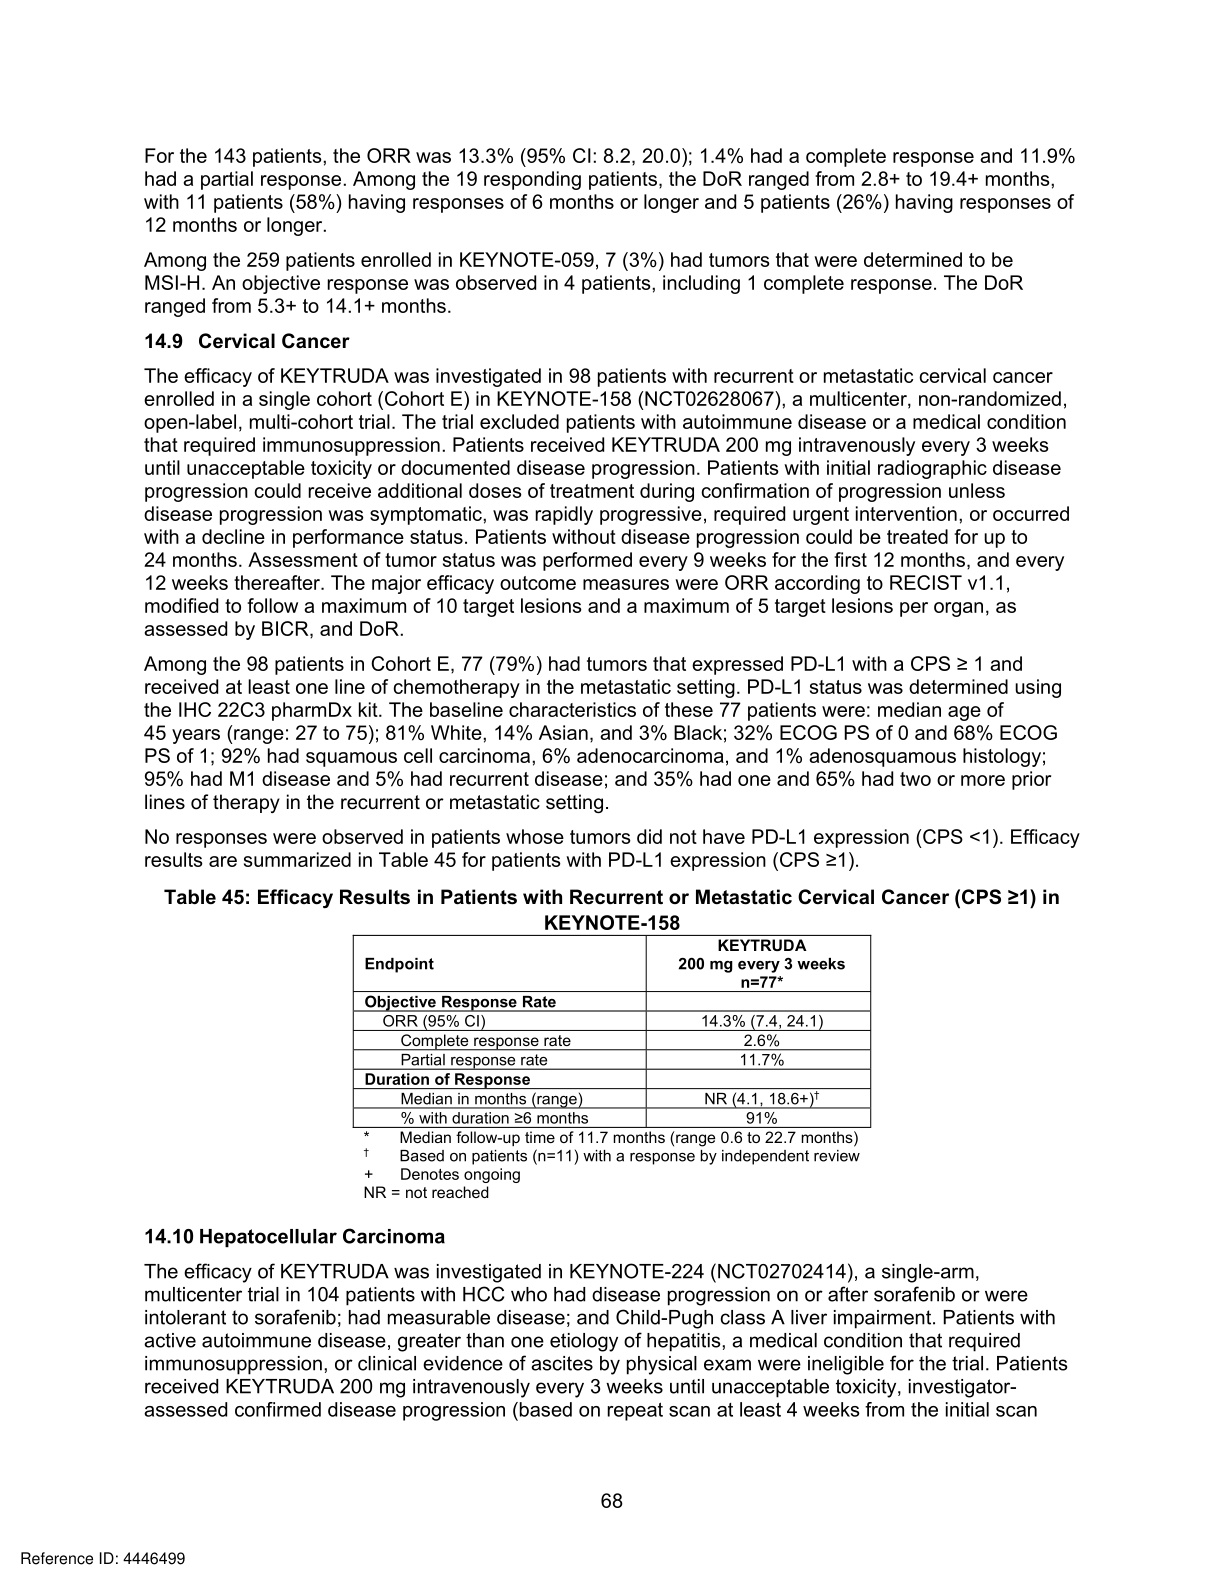full_lined: (352, 933, 872, 1129)
